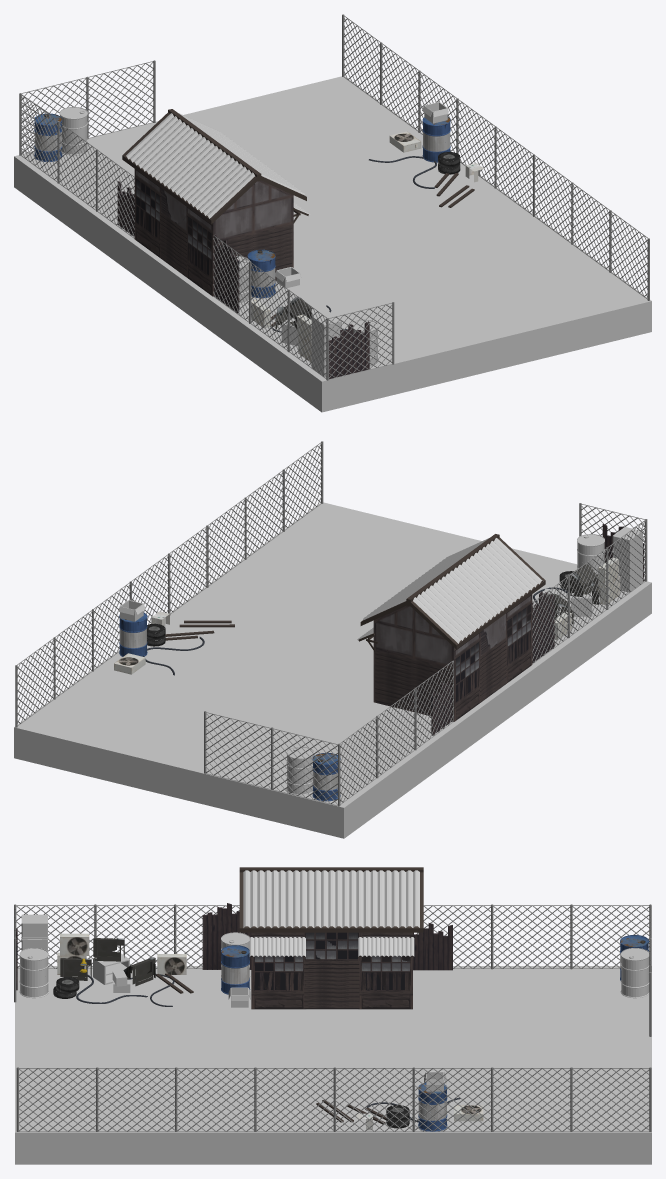
The model's file is after school04.fbx.
3 renders of one model, top to bottom at view 1: azimuth 30°, elevation 25°; view 2: azimuth 150°, elevation 25°; view 3: azimuth 270°, elevation 25°, orthographic. The views are drawn at different scales.
Visible parts, largest first — view 1: Cube.026, Cube, Cube.003, Cube.001, Plane.007, Plane.018, Cube.022, Plane.001, Plane.004, Plane.012, Plane.013, Plane.019 (+17 smaller); view 2: Cube.026, Cube, Cube.003, Cube.001, Plane.008, Plane.018, Plane.001, Cube.037, Plane.019, Plane.002, Plane.012, Plane.010 (+17 smaller); view 3: Cube.026, Cube, Cube.003, Cube.001, Plane.013, Plane.016, Plane.010, Plane.002, Plane.019, Plane.012, Plane.011, Plane.014 (+23 smaller).
Boxes of the visible parts, x1,y1,x2,y2 form: Cube.026: (14,76,651,412); Cube: (134,169,293,296); Cube.003: (125,113,304,218); Cube.001: (122,109,306,224); Plane.007: (328,303,392,379); Plane.018: (88,61,153,138); Cube.022: (328,321,369,379); Plane.001: (97,150,134,238); Plane.004: (250,262,287,350); Plane.012: (534,155,571,243); Plane.013: (496,127,533,215); Plane.019: (572,183,609,271); Cube.026: (14,502,651,838); Cube: (373,594,532,721); Cube.003: (362,538,543,643); Cube.001: (360,534,545,649); Plane.008: (272,728,337,805); Plane.018: (205,712,271,789); Plane.001: (416,660,453,748); Cube.037: (612,527,642,592); Plane.019: (246,470,283,558); Plane.002: (378,689,414,776); Plane.012: (208,498,245,586); Plane.010: (55,610,92,698); Cube.026: (15,966,651,1164); Cube: (251,932,412,1009); Cube.003: (243,870,419,927); Cube.001: (239,867,423,932); Plane.013: (256,1068,333,1131); Plane.016: (19,1068,96,1131); Plane.010: (493,1068,570,1131); Plane.002: (493,905,570,968); Plane.019: (98,1068,175,1131); Plane.012: (177,1068,254,1131); Plane.011: (572,1068,649,1131); Plane.014: (335,1068,412,1131).
Bounding box in the file's own units: 23409 × 9930 × 37632.
